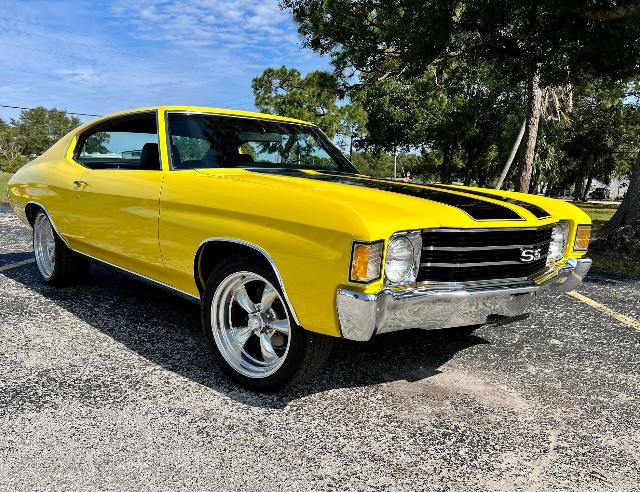chevelle-1972: (7, 106, 591, 392)
